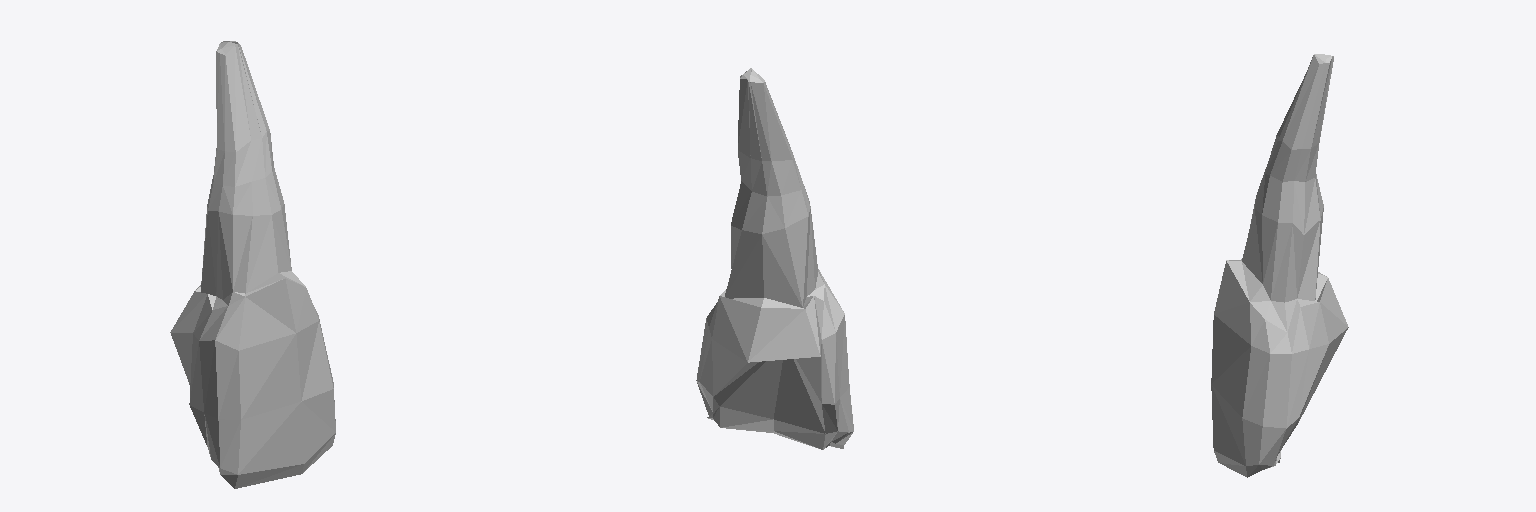
The model's file is Upper_Incisor_Right_01.obj.
3 renders of one model, left to right at view 1: azimuth 30°, elevation 25°; view 2: azimuth 150°, elevation 25°; view 3: azimuth 270°, elevation 25°, orthographic.
Parts seen in each view (by area): view 1: Upper_Incisor_Right_01 Upper_Teeth Teeth group1; view 2: Upper_Incisor_Right_01 Upper_Teeth Teeth group1; view 3: Upper_Incisor_Right_01 Upper_Teeth Teeth group1.
Boxes of the visible parts, x1=… form: Upper_Incisor_Right_01 Upper_Teeth Teeth group1: x1=170, y1=41, x2=335, y2=488; Upper_Incisor_Right_01 Upper_Teeth Teeth group1: x1=696, y1=68, x2=853, y2=449; Upper_Incisor_Right_01 Upper_Teeth Teeth group1: x1=1211, y1=54, x2=1348, y2=477.
Bounding box in the file's own units: 0.0935 × 0.2602 × 0.0805.